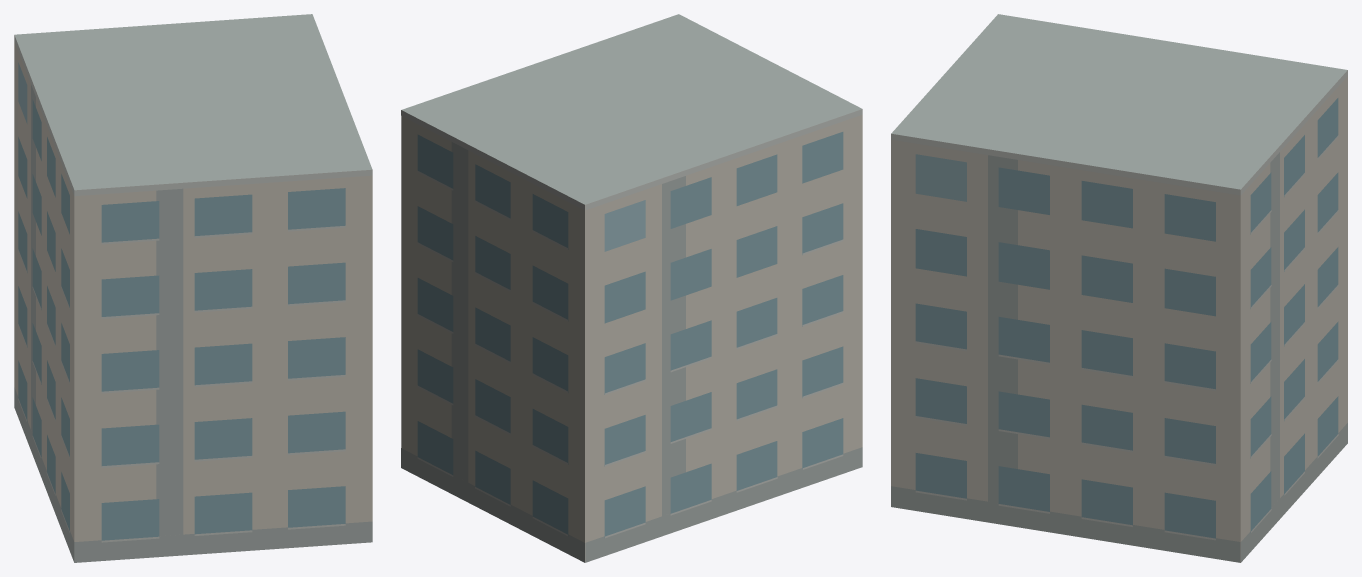
The model's file is residential-a69b635b-40c2-48ac-8894-000c026ff659.glb.
3 views of the same model, side by side, from view 1: azimuth 30°, elevation 25°; view 2: azimuth 150°, elevation 25°; view 3: azimuth 270°, elevation 25° (orthographic). The views are drawn at different scales.
Visible parts, largest first — view 1: residential-a69b635b-40c2-48ac-8894-000c026ff659.tmp; view 2: residential-a69b635b-40c2-48ac-8894-000c026ff659.tmp; view 3: residential-a69b635b-40c2-48ac-8894-000c026ff659.tmp.
Boxes of the visible parts, <box> form: residential-a69b635b-40c2-48ac-8894-000c026ff659.tmp: <box>14,14,372,562</box>; residential-a69b635b-40c2-48ac-8894-000c026ff659.tmp: <box>401,14,862,562</box>; residential-a69b635b-40c2-48ac-8894-000c026ff659.tmp: <box>891,14,1347,562</box>.
Bounding box in the file's own units: 15.39 × 15.25 × 16.92.
